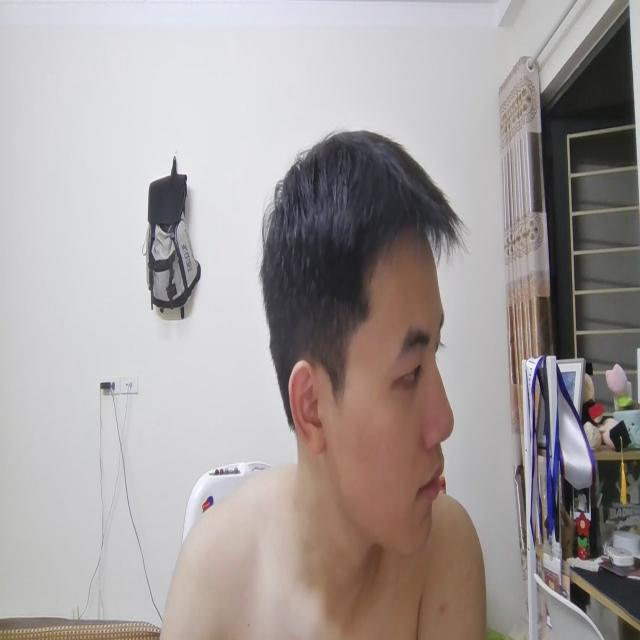student: (183, 106, 489, 640)
